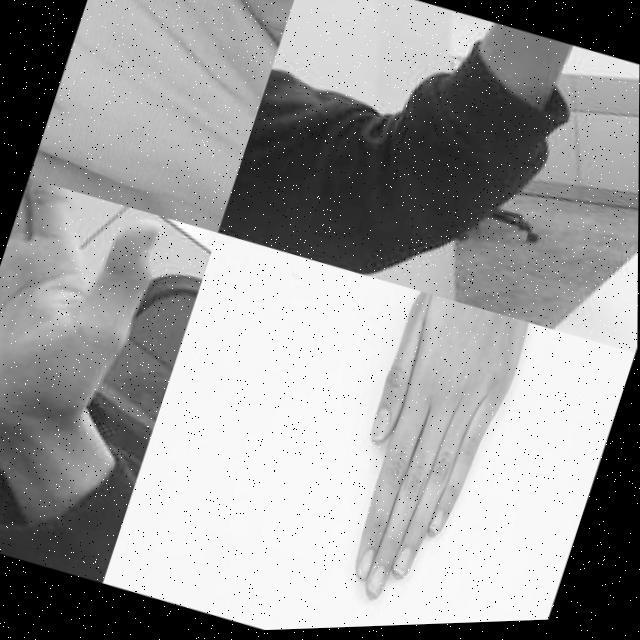no-gloves: (319, 289, 533, 622), (33, 0, 304, 224), (0, 173, 176, 466), (381, 0, 609, 185)
